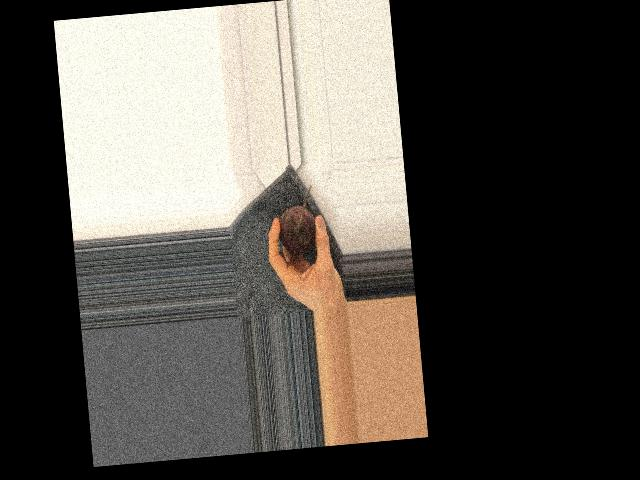beet: (275, 184, 318, 255)
